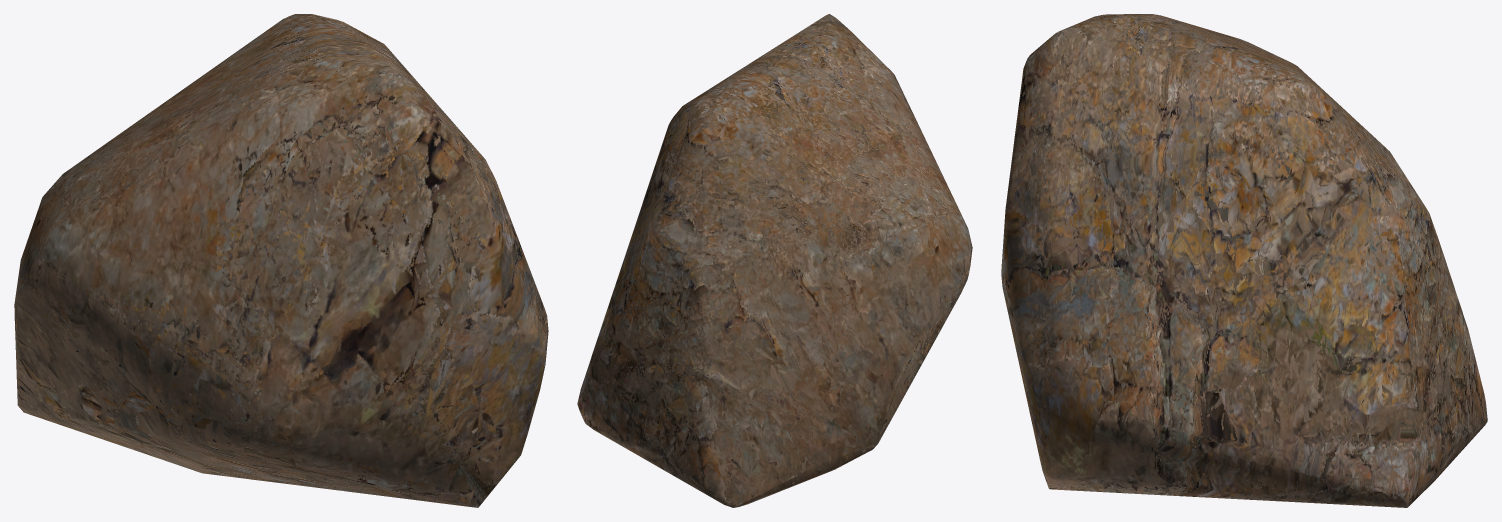
File: river_boulder.glb
The picture shows the model from 3 angles, left to right: view 1: azimuth 30°, elevation 25°; view 2: azimuth 150°, elevation 25°; view 3: azimuth 270°, elevation 25°; orthographic projection. The views are drawn at different scales.
Parts seen in each view (by area): view 1: RiverScannedBoulder; view 2: RiverScannedBoulder; view 3: RiverScannedBoulder.
Boxes of the visible parts, x1=… form: RiverScannedBoulder: x1=14, y1=14, x2=548, y2=507; RiverScannedBoulder: x1=577, y1=14, x2=972, y2=507; RiverScannedBoulder: x1=1001, y1=14, x2=1487, y2=507.
Size of the model in its own units: 1 by 1 by 1.
Materials: 1 (1 with a texture image).
